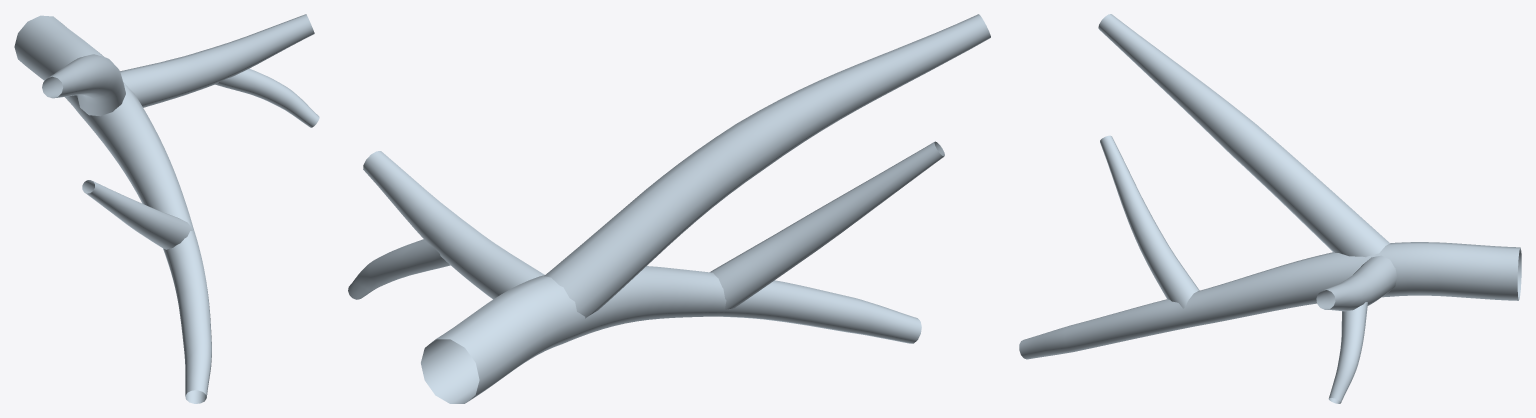
Rendered from visceras-anterior-segmental-bronchus-of-left-lung-biii.glb.
The picture shows the model from 3 angles, left to right: view 1: azimuth 30°, elevation 25°; view 2: azimuth 150°, elevation 25°; view 3: azimuth 270°, elevation 25°; orthographic projection. The views are drawn at different scales.
Parts seen in each view (by area): view 1: Anterior segmental bronchus of left lung (BIII); view 2: Anterior segmental bronchus of left lung (BIII); view 3: Anterior segmental bronchus of left lung (BIII).
Part boxes in pixels (x1,y1,x2,y2): Anterior segmental bronchus of left lung (BIII): (14,14,319,403); Anterior segmental bronchus of left lung (BIII): (348,14,990,403); Anterior segmental bronchus of left lung (BIII): (1019,14,1521,403).
Bounding box in the file's own units: 0.0635 × 0.049 × 0.0748.
